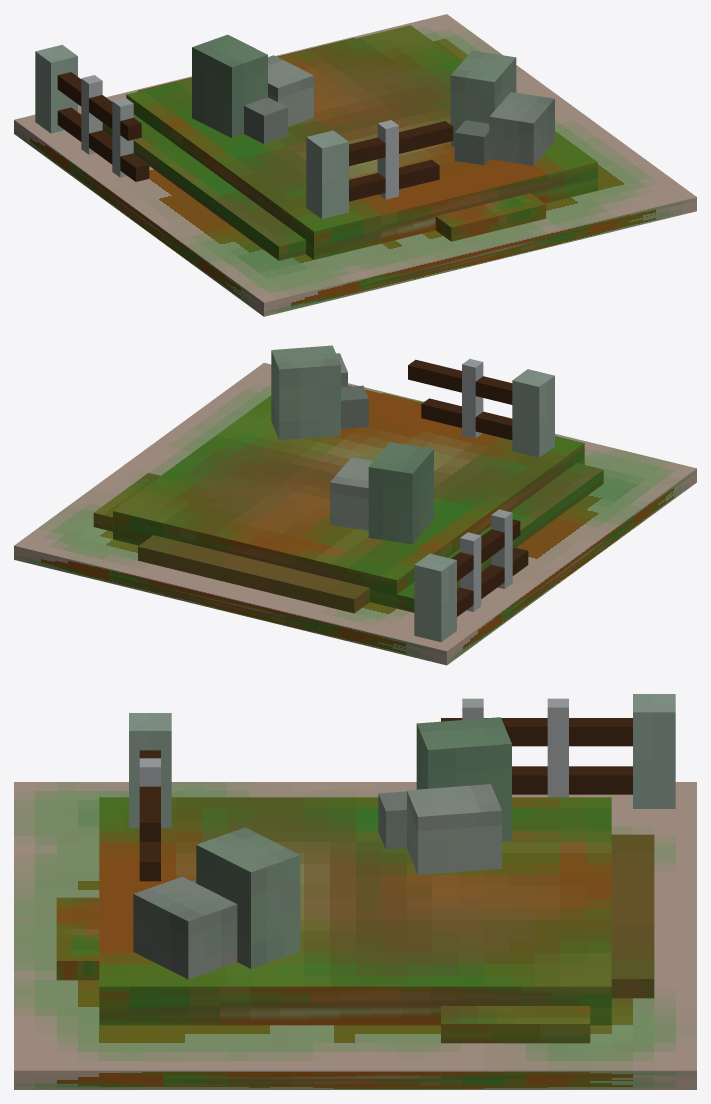
The model's file is wastes.obj.
3 renders of one model, top to bottom at view 1: azimuth 30°, elevation 25°; view 2: azimuth 150°, elevation 25°; view 3: azimuth 270°, elevation 25°, orthographic. The views are drawn at different scales.
Parts seen in each view (by area): view 1: cube; view 2: cube; view 3: cube.
Part boxes in pixels (bbox=[...]): cube: bbox=[14, 14, 696, 316]; cube: bbox=[14, 345, 696, 665]; cube: bbox=[14, 694, 696, 1089].
Bounding box in the file's own units: 2 × 0.5 × 2.
